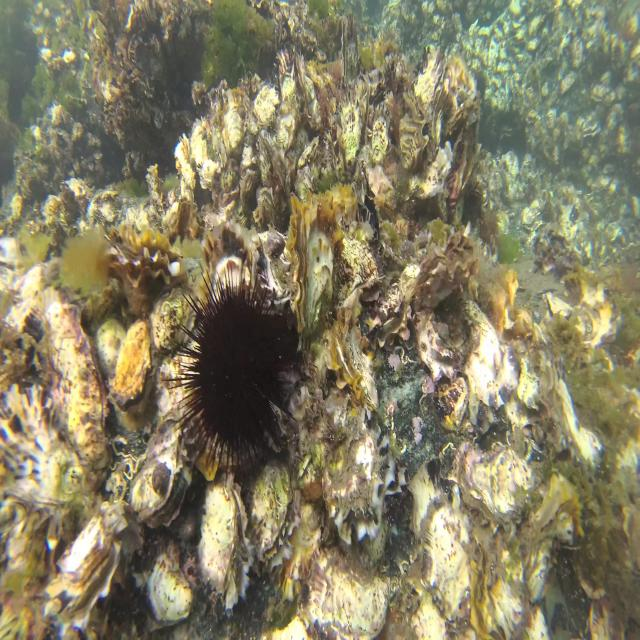echinus: (160, 252, 317, 489), (459, 186, 483, 228)
